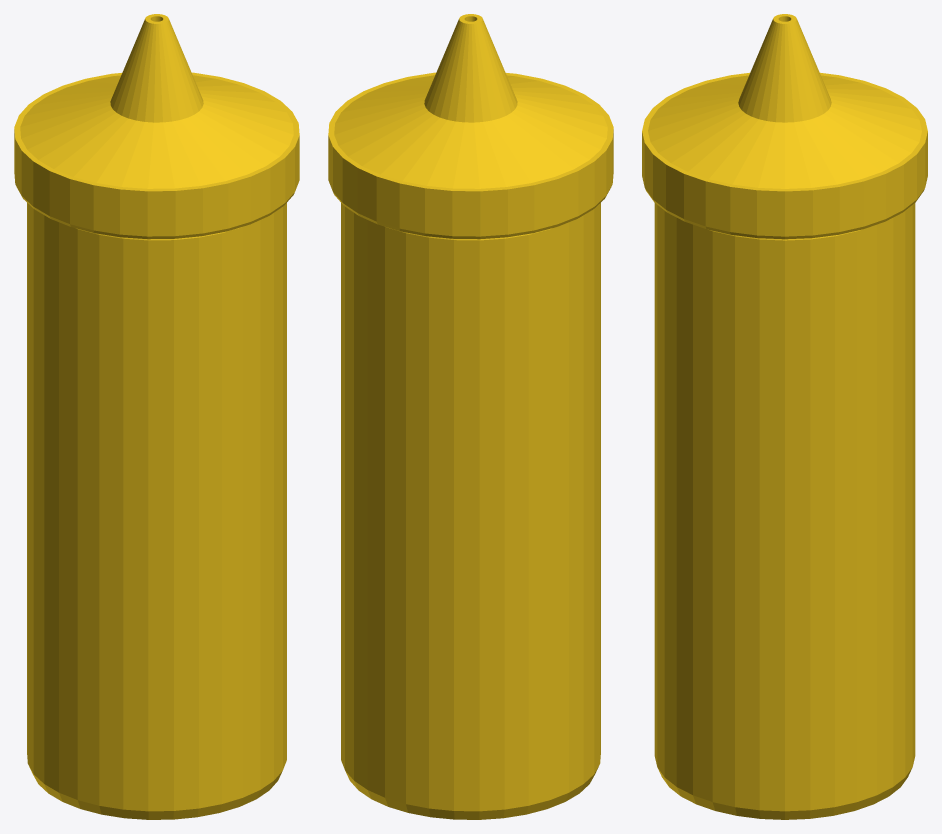
File: mustard_bottle.glb
The picture shows the model from 3 angles, left to right: view 1: azimuth 30°, elevation 25°; view 2: azimuth 150°, elevation 25°; view 3: azimuth 270°, elevation 25°; orthographic projection.
Visible parts, largest first — view 1: mustard; view 2: mustard; view 3: mustard.
Part boxes in pixels (left/top/right/bottom): mustard: left=14, top=14, right=299, bottom=819; mustard: left=328, top=14, right=613, bottom=819; mustard: left=642, top=14, right=927, bottom=819.
Bounding box in the file's own units: 0.0964 × 0.28 × 0.0964.
